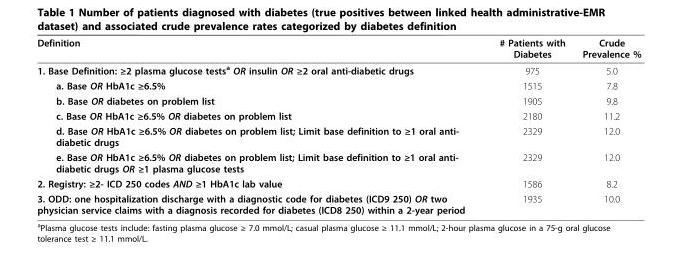table: (36, 36, 640, 215)
table column: (36, 36, 481, 215), (481, 36, 573, 215), (573, 36, 640, 215)
table column header: (36, 36, 640, 61)
table row: (36, 123, 640, 149), (36, 149, 640, 175), (36, 36, 640, 61), (36, 190, 640, 215), (36, 61, 640, 77), (36, 107, 640, 123), (36, 77, 640, 92), (36, 92, 640, 107), (36, 175, 640, 190)
